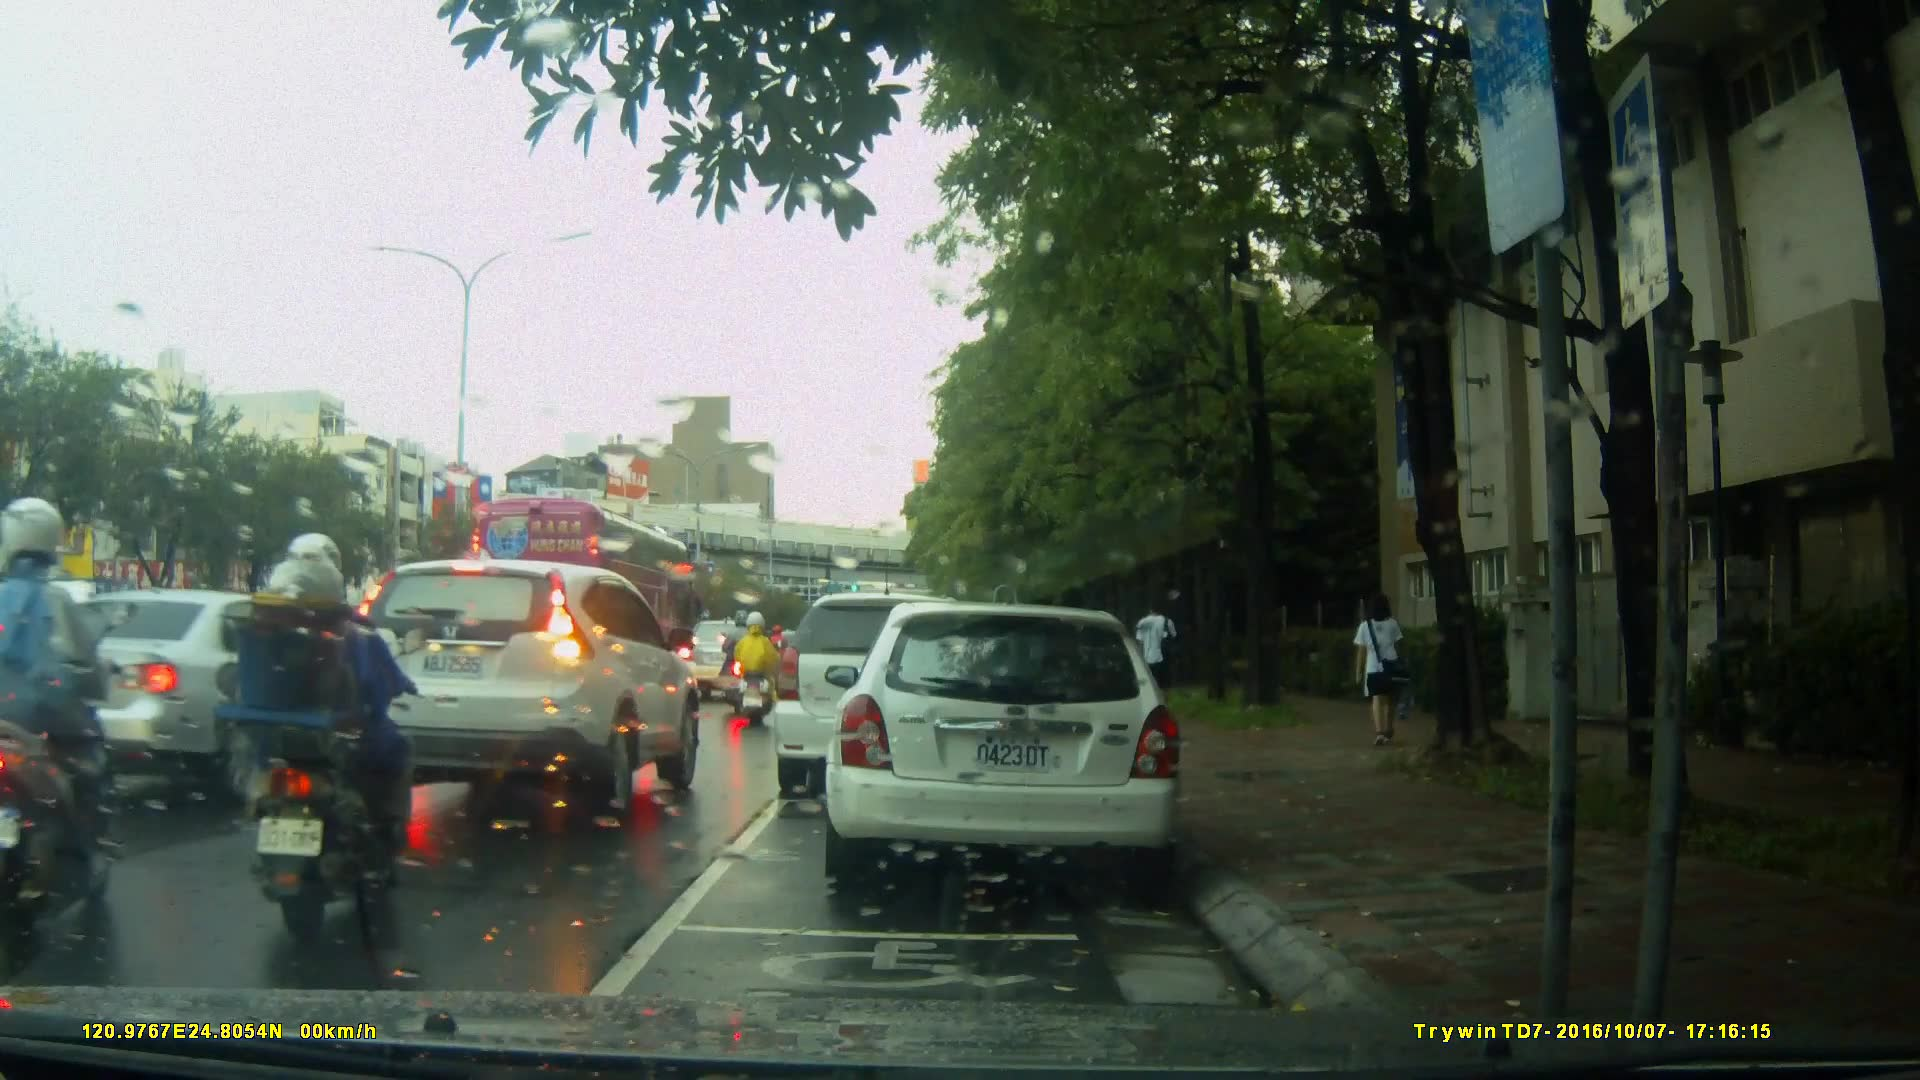pedestrian: (1345, 582, 1421, 764), (1131, 595, 1177, 711)
rider: (207, 526, 422, 955), (1, 501, 138, 971), (735, 611, 778, 726), (724, 604, 767, 714)
vehicle: (835, 594, 1194, 898), (347, 558, 707, 818), (78, 582, 394, 787), (776, 590, 1026, 784), (467, 495, 716, 662), (677, 618, 777, 704)
